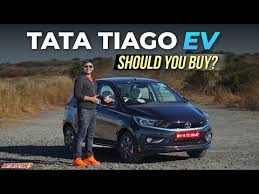Tiago: (104, 75, 218, 165)
